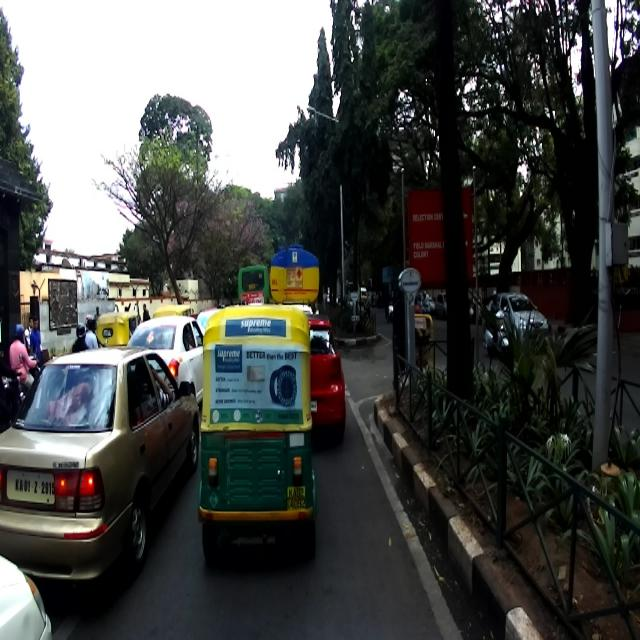Car_Maruti-Suzuki: (0, 345, 198, 581), (124, 315, 205, 407)
autorickshaw: (198, 306, 316, 564)
